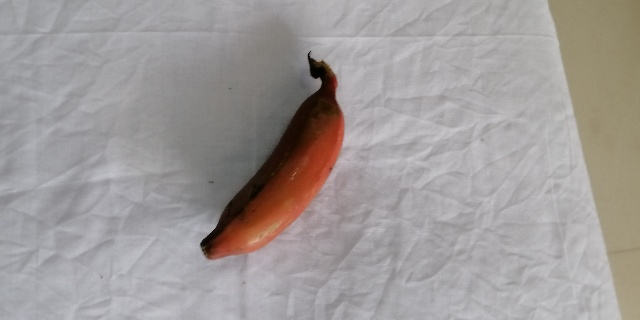banana_red: (196, 53, 345, 261)
